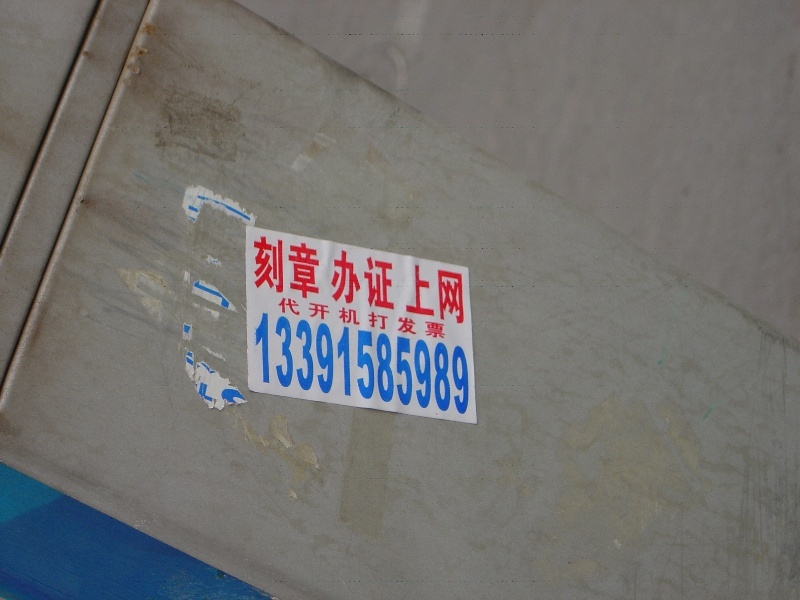text: (257, 311, 272, 415), (273, 311, 288, 415), (289, 311, 304, 415), (305, 311, 320, 415), (321, 311, 336, 415), (337, 311, 352, 415), (353, 311, 368, 415), (369, 311, 384, 415), (385, 311, 400, 415), (401, 311, 416, 415), (417, 311, 432, 415), (433, 311, 448, 415), (449, 311, 464, 415), (305, 234, 321, 299), (257, 234, 272, 299), (273, 234, 288, 299), (289, 234, 304, 299), (337, 247, 352, 311), (353, 247, 368, 311), (369, 247, 384, 311), (417, 263, 432, 325), (433, 263, 448, 325), (449, 263, 464, 325), (385, 247, 397, 311), (433, 297, 449, 342), (289, 297, 304, 342), (305, 297, 320, 342), (321, 297, 336, 342), (337, 297, 352, 342), (353, 297, 368, 342), (369, 297, 384, 342), (385, 297, 400, 342), (401, 297, 416, 342), (417, 297, 432, 342), (406, 263, 416, 325), (252, 311, 256, 415), (465, 311, 469, 415), (279, 297, 288, 342), (332, 247, 336, 311), (255, 234, 256, 299), (465, 263, 466, 325)
